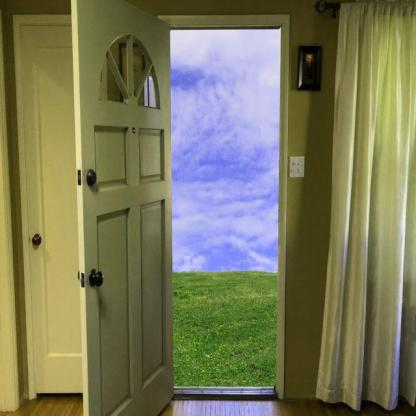door: (67, 0, 300, 415)
